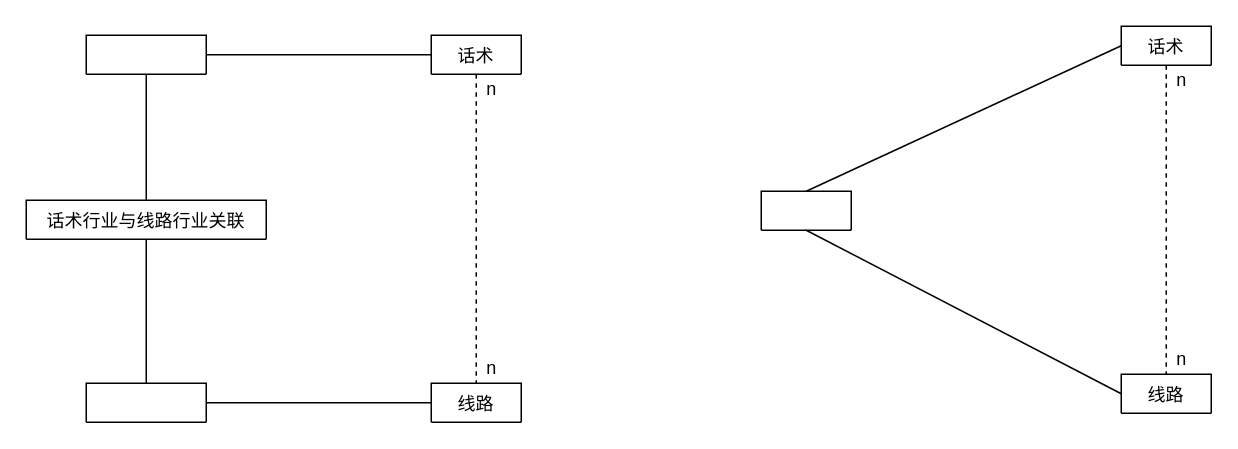
Some shapes in this 1238 by 449 pixel diagram are drawn without their labels. The centre of each missing label's shape, as x and y in pixels:
"线路行业" goes at (145,402).
"行业" goes at (805,210).
"话术行业" goes at (145,54).
